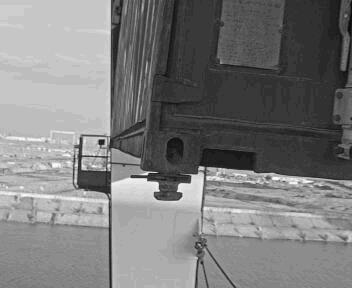twist_lock_1: (141, 166, 195, 207)
